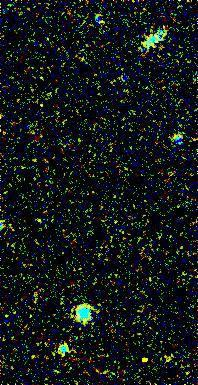star: (130, 346, 160, 376)
